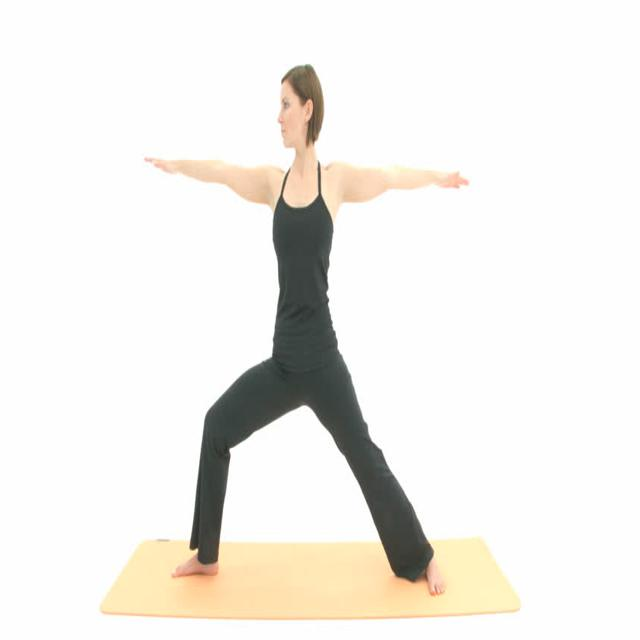Warrior_II: (136, 56, 477, 598)
